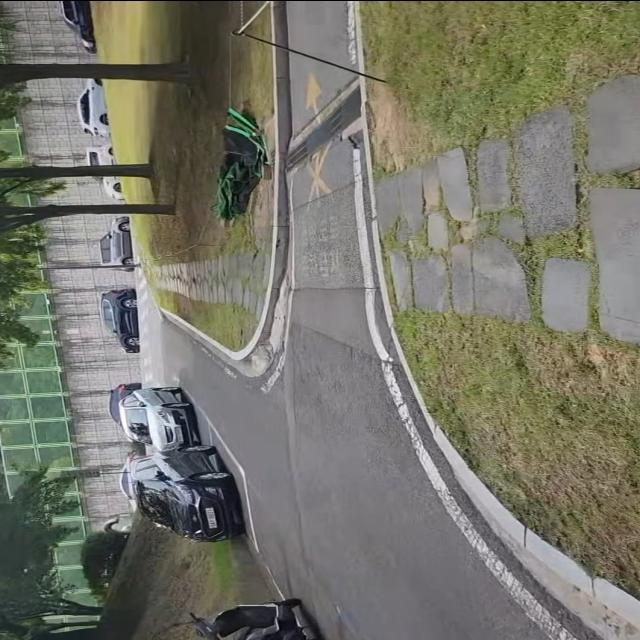obstacle: (112, 431, 249, 548), (147, 586, 336, 640), (111, 379, 210, 452)
road: (153, 307, 640, 640)
sidewalk: (364, 67, 640, 334), (141, 242, 278, 320)
